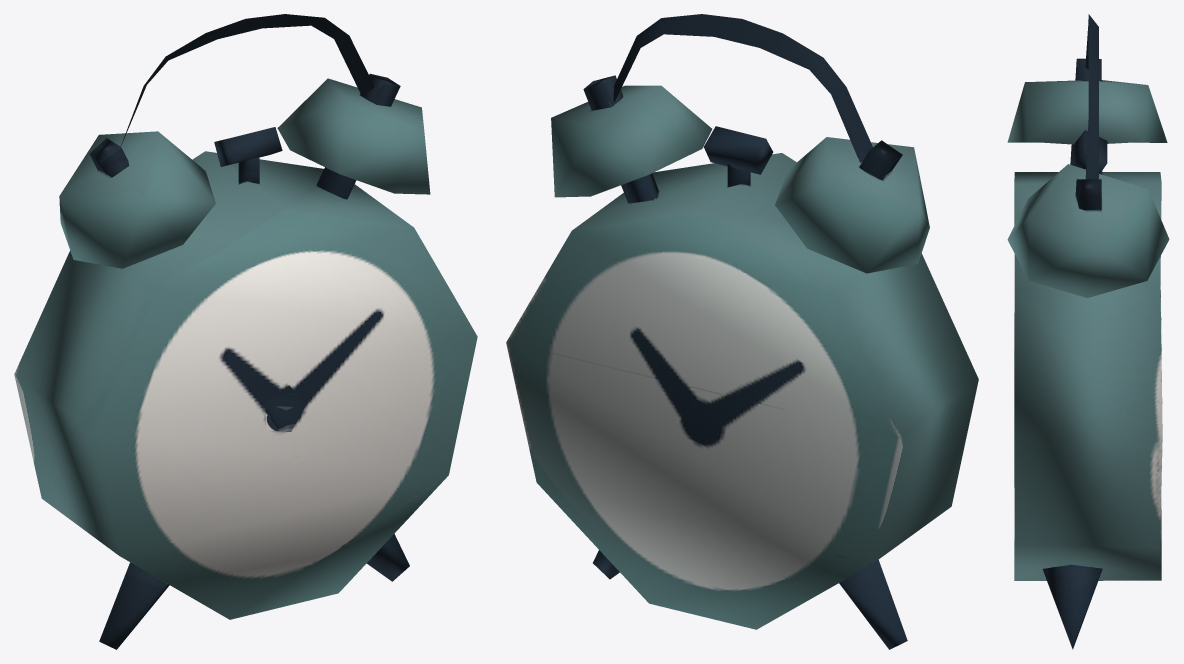
The model's file is alarm_clock.glb.
The picture shows the model from 3 angles, left to right: view 1: azimuth 30°, elevation 25°; view 2: azimuth 150°, elevation 25°; view 3: azimuth 270°, elevation 25°; orthographic projection. The views are drawn at different scales.
Size of the model in its own units: 0.6509 by 0.9531 by 0.2529.
1 material, 1 textured.
